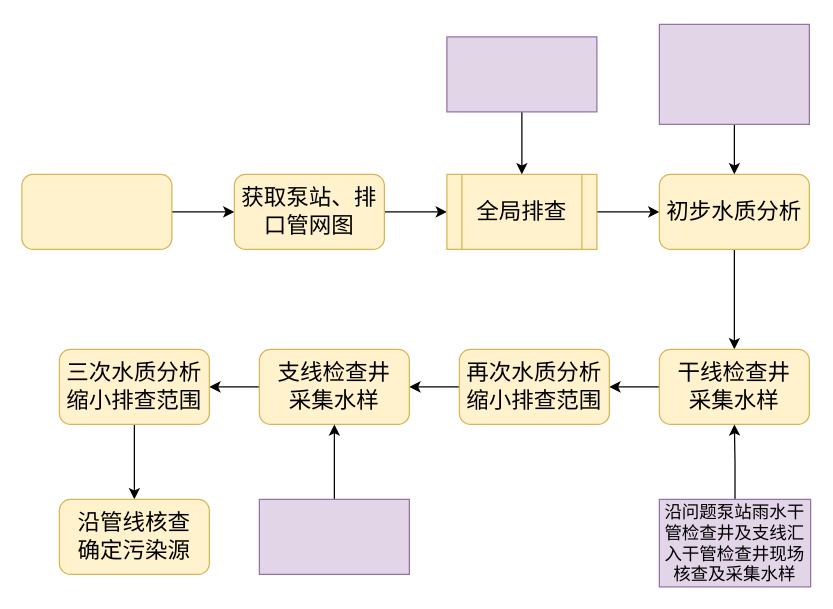
Image size: 833x609. Some labels were removed from this diagram. Each missing label, with the centre of its shape:
"分析泵站的问题是否是共性问题，发现总P超标严重，初步判断是 生活污水混接" belongs at pixel 733 73.
"检查所有泵站、 关键排口及排口上下游 核查及水质取样" belongs at pixel 521 74.
"泵站水质异常人工举报" belongs at pixel 96 211.
"雨水支管检查井及汇入支管检查井现场核查及水质取样" belongs at pixel 333 536.
